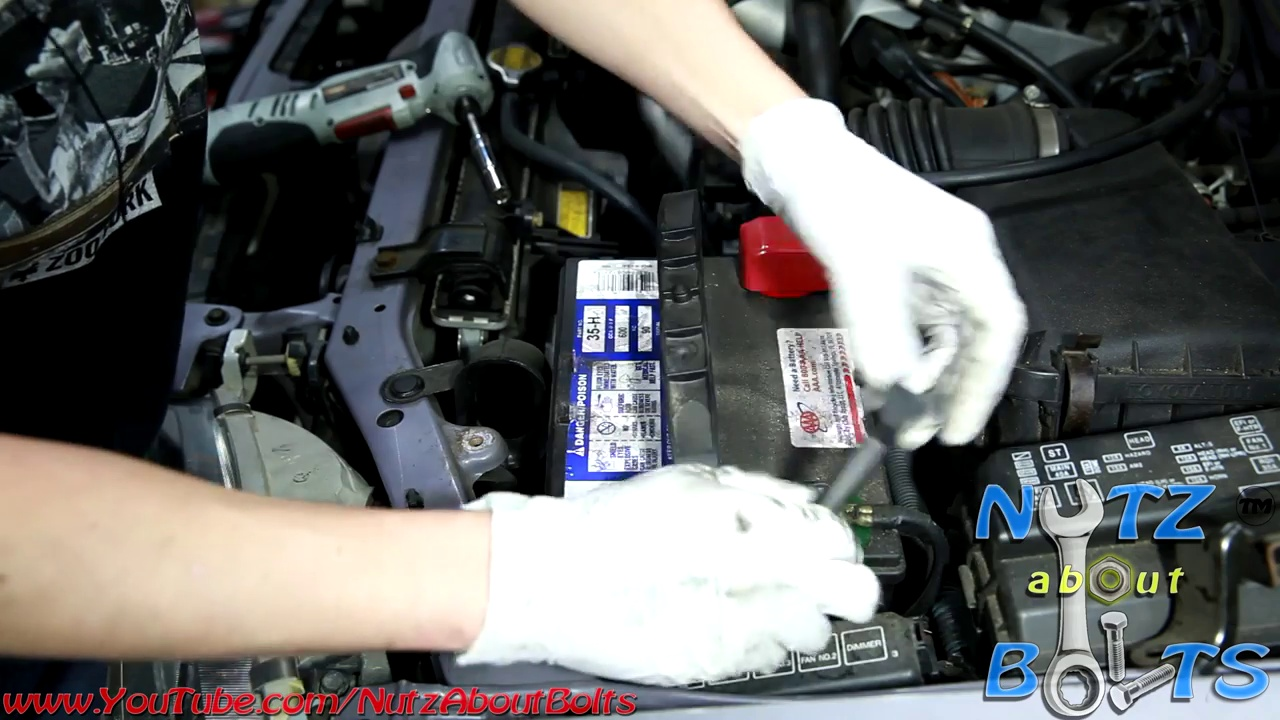battery: (558, 219, 912, 582)
pos_touched: (724, 189, 918, 351)
